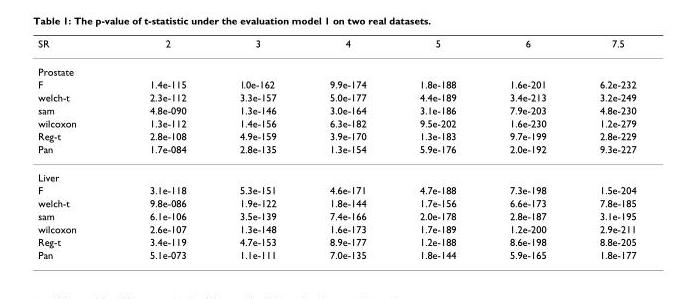table: (37, 37, 635, 260)
table column: (112, 37, 212, 260), (212, 37, 302, 260), (302, 37, 392, 260), (392, 37, 482, 260), (482, 37, 572, 260), (37, 37, 112, 260), (572, 37, 635, 260)
table column header: (37, 37, 635, 57)
table projected row header: (37, 162, 635, 183), (37, 57, 635, 77)
table row: (37, 162, 635, 183), (37, 37, 635, 57), (37, 57, 635, 77), (37, 142, 635, 162), (37, 77, 635, 90), (37, 90, 635, 103), (37, 103, 635, 116), (37, 116, 635, 129), (37, 129, 635, 142), (37, 183, 635, 196), (37, 196, 635, 209), (37, 209, 635, 222), (37, 222, 635, 235), (37, 235, 635, 248), (37, 248, 635, 260)
